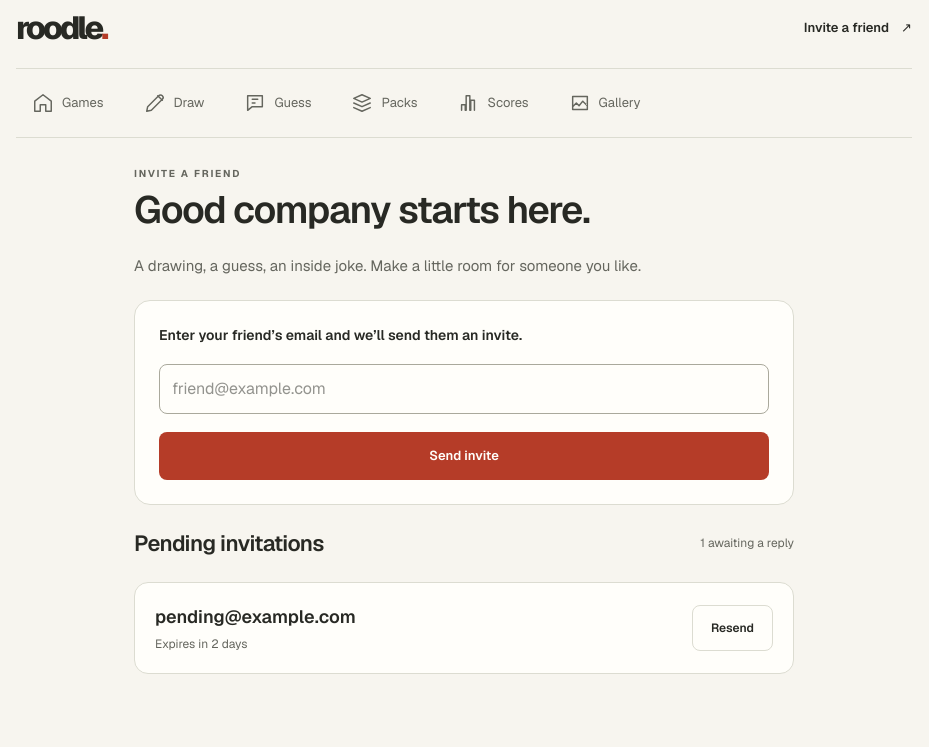
Test: friend invitations › surfaces a delivery error when a resend fails
Click the button "Resend" at [732, 628], box left=692, top=604, right=773, bottom=650
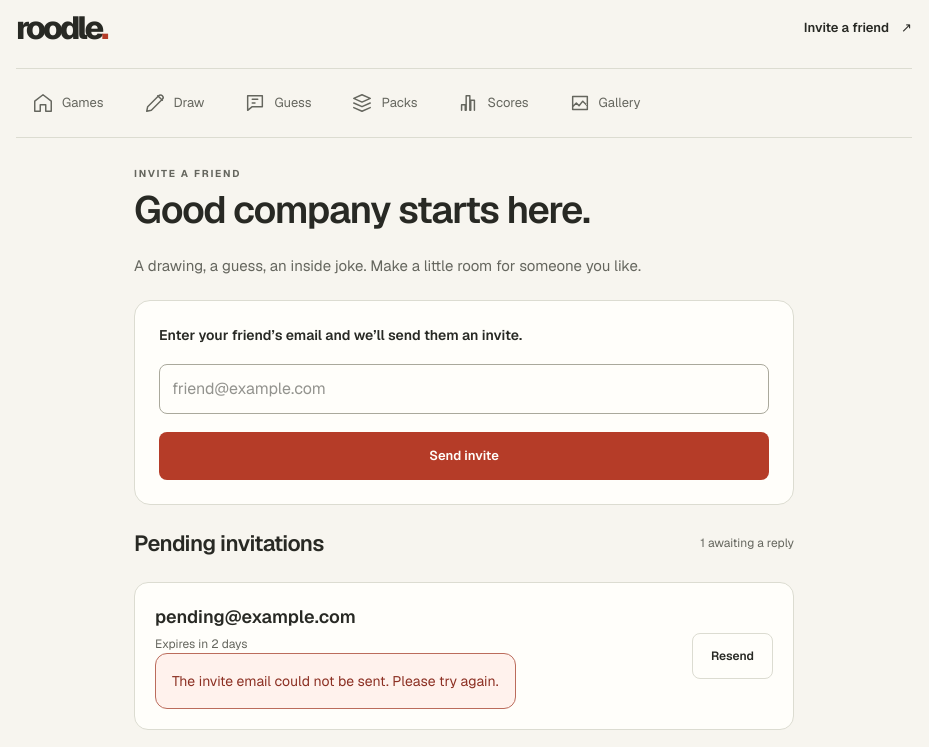
expect the text "The invite email could not be sent. Please try again." is shown: met, box left=155, top=652, right=516, bottom=709
